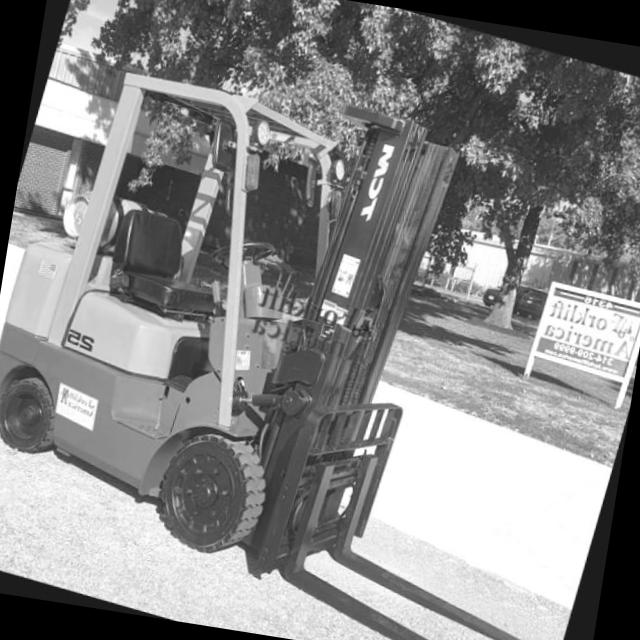forklift: (0, 7, 518, 622)
